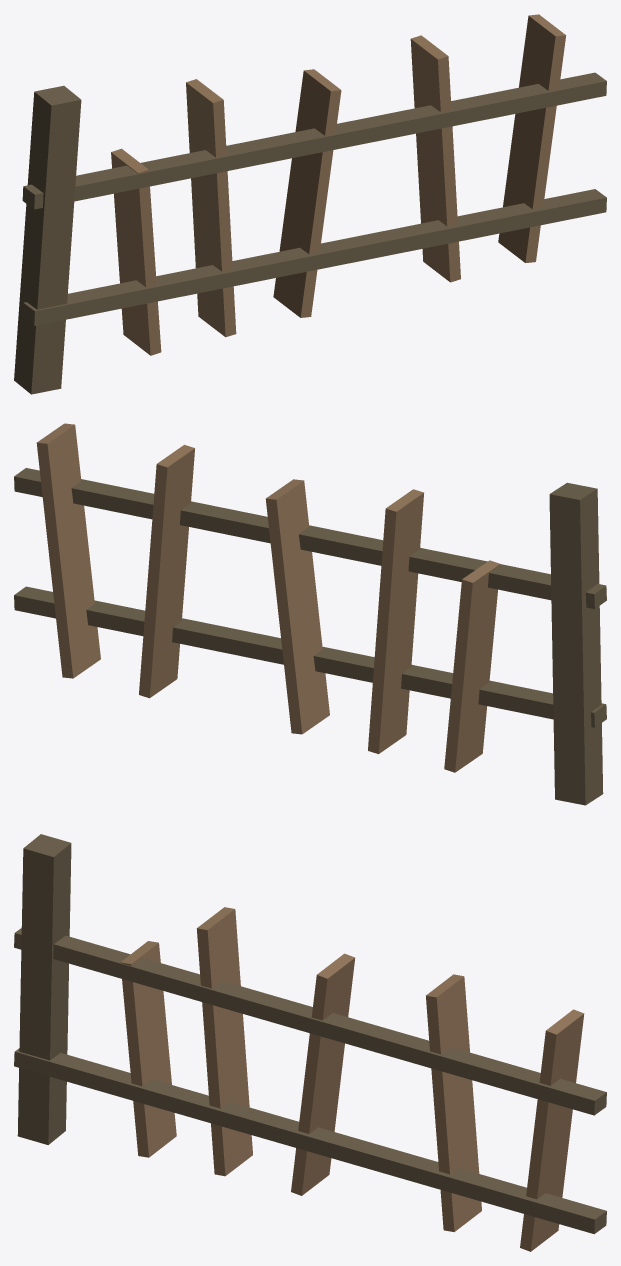
File: ua_valley_fence_broken_1.obj
The picture shows the model from 3 angles, top to bottom: view 1: azimuth 30°, elevation 25°; view 2: azimuth 150°, elevation 25°; view 3: azimuth 330°, elevation 25°; orthographic projection.
Visible parts, largest first — view 1: ua_valley_fence_broken_1; view 2: ua_valley_fence_broken_1; view 3: ua_valley_fence_broken_1.
Part boxes in pixels (x1,y1,x2,y2): ua_valley_fence_broken_1: [14, 14, 606, 394]; ua_valley_fence_broken_1: [14, 423, 606, 805]; ua_valley_fence_broken_1: [14, 834, 606, 1251].
Bounding box in the file's own units: 2.67 × 1.31 × 0.2751.
